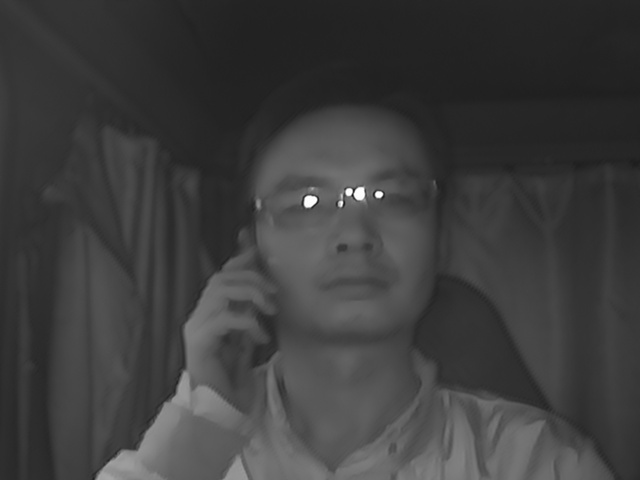hand: (181, 245, 269, 390)
